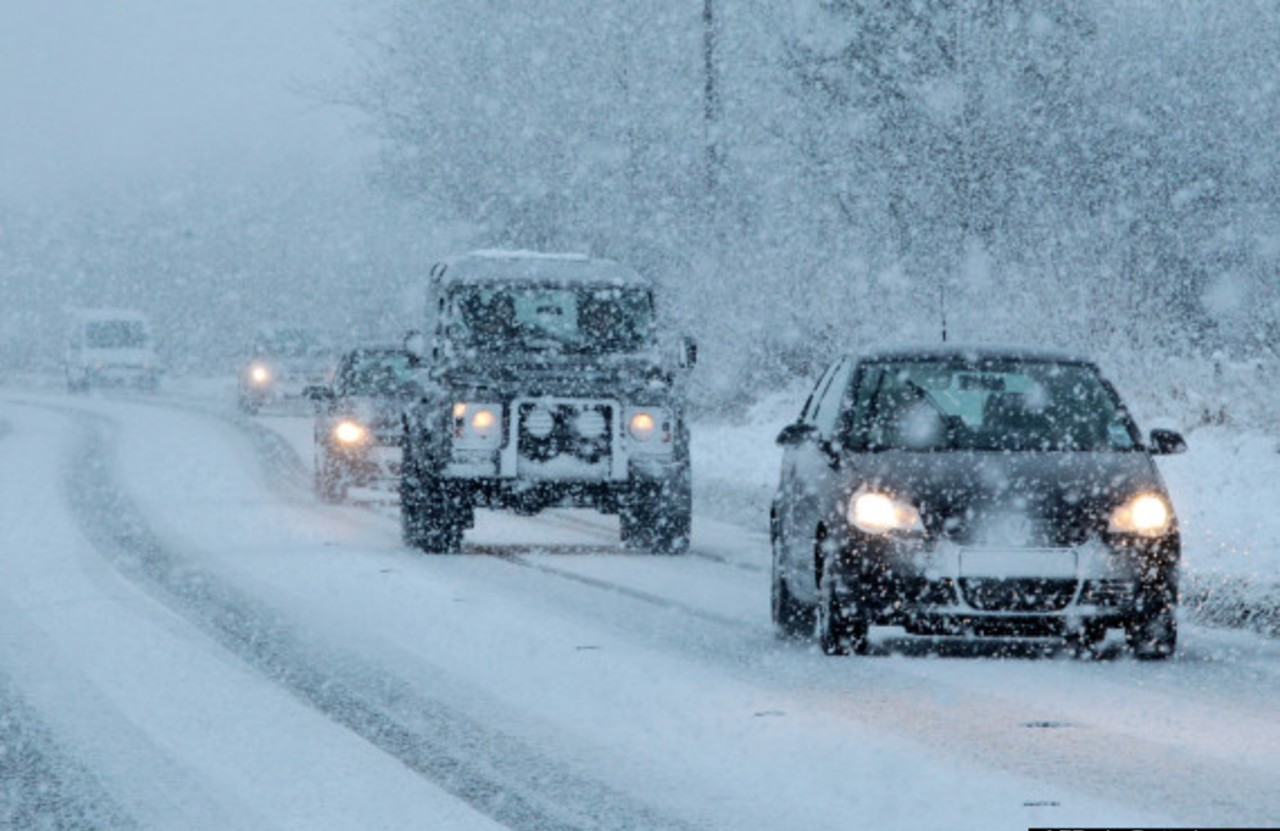car: (765, 342, 1200, 665), (409, 250, 697, 558), (314, 342, 416, 505), (232, 323, 336, 417), (64, 304, 161, 395)
